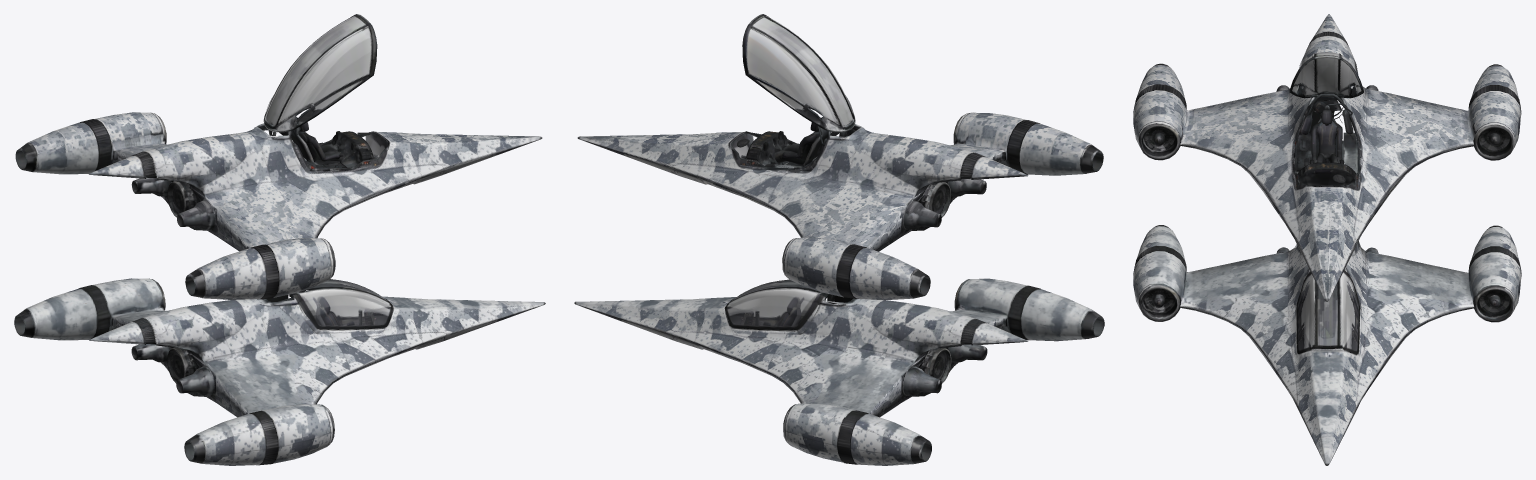
File: ship2.glb
3 views of the same model, side by side, from view 1: azimuth 30°, elevation 25°; view 2: azimuth 150°, elevation 25°; view 3: azimuth 270°, elevation 25° (orthographic). The views are drawn at different scales.
Visible parts, largest first — view 1: tripo_96586de7_b107_45c3_b0cf_86081f5aaedc; view 2: tripo_96586de7_b107_45c3_b0cf_86081f5aaedc; view 3: tripo_96586de7_b107_45c3_b0cf_86081f5aaedc.
Boxes of the visible parts, bbox=[...] form: tripo_96586de7_b107_45c3_b0cf_86081f5aaedc: bbox=[14, 14, 545, 465]; tripo_96586de7_b107_45c3_b0cf_86081f5aaedc: bbox=[574, 14, 1104, 465]; tripo_96586de7_b107_45c3_b0cf_86081f5aaedc: bbox=[1133, 14, 1521, 465].
Bounding box in the file's own units: 0.9995 × 0.7202 × 0.7554.
Materials: 1 (1 with a texture image).
